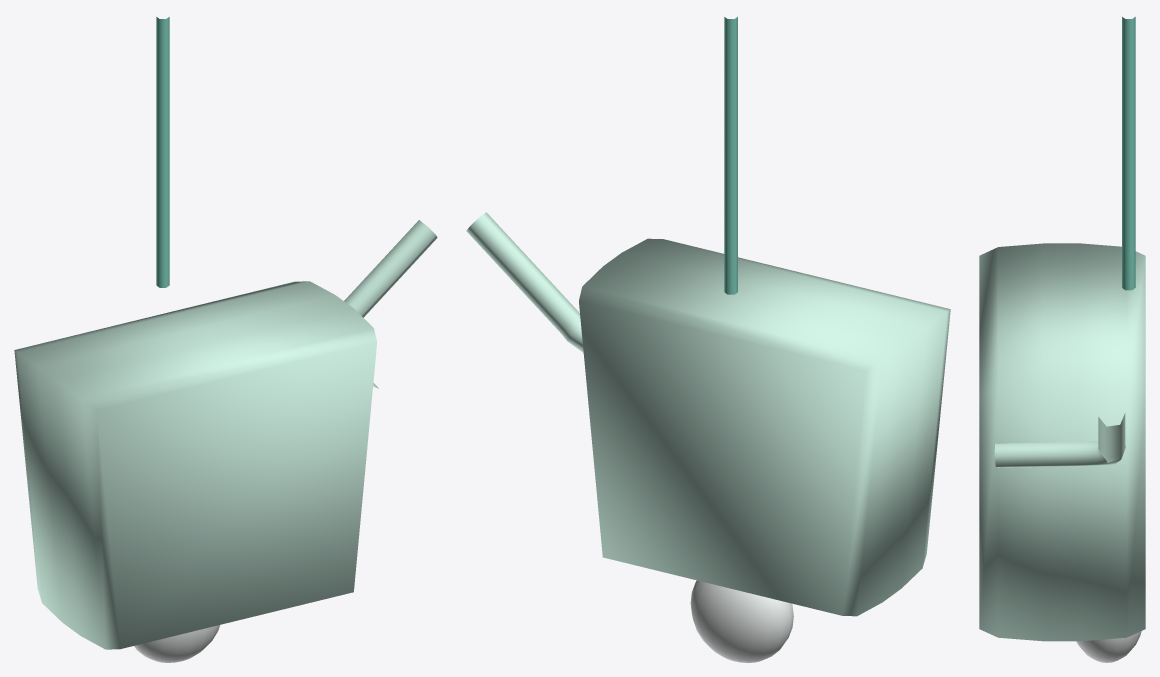
File: decor_3_mint.glb
The picture shows the model from 3 angles, left to right: view 1: azimuth 30°, elevation 25°; view 2: azimuth 150°, elevation 25°; view 3: azimuth 270°, elevation 25°; orthographic projection. The views are drawn at different scales.
Parts seen in each view (by area): view 1: decor_3_mint; view 2: decor_3_mint; view 3: decor_3_mint.
Part boxes in pixels (bbox=[...]): decor_3_mint: bbox=[14, 17, 437, 662]; decor_3_mint: bbox=[466, 17, 950, 662]; decor_3_mint: bbox=[979, 16, 1145, 662].
Bounding box in the file's own units: 7.06 × 10.4 × 2.45.
